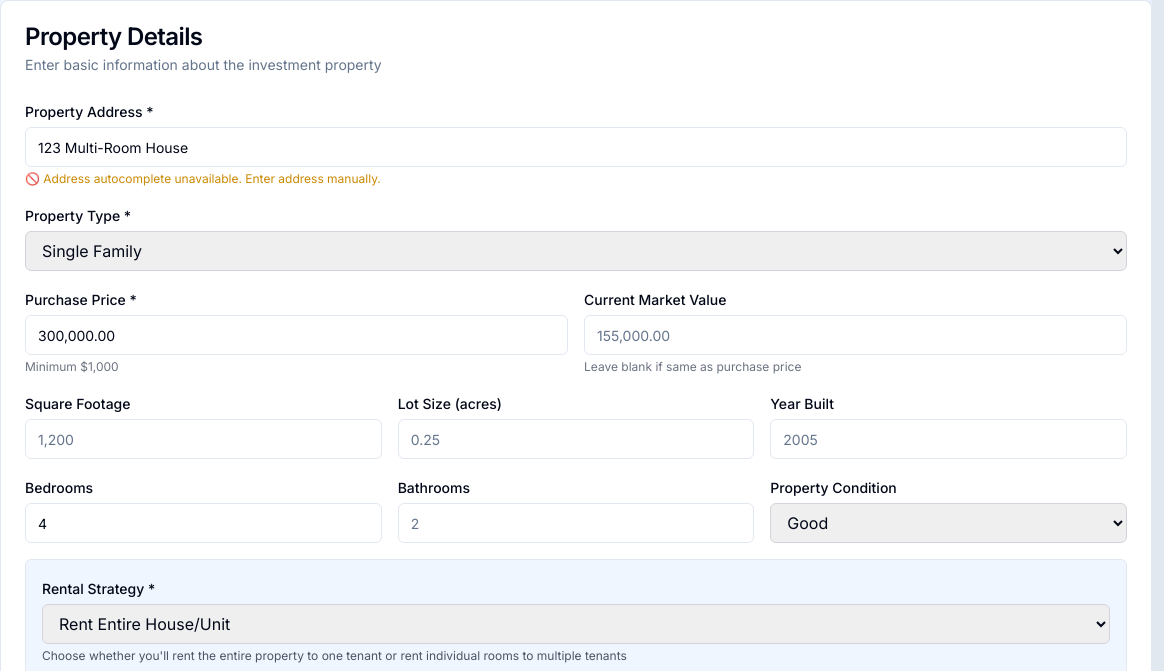
Multi-Room Rental Strategy Feature › should switch back to entire-house strategy and clear room data
Start with individual-rooms strategy
Select "Rent Individual Rooms" in the dropdown labelled "Rental Strategy *" at (576, 624), box [42,604,1110,644]
(page scrolled)
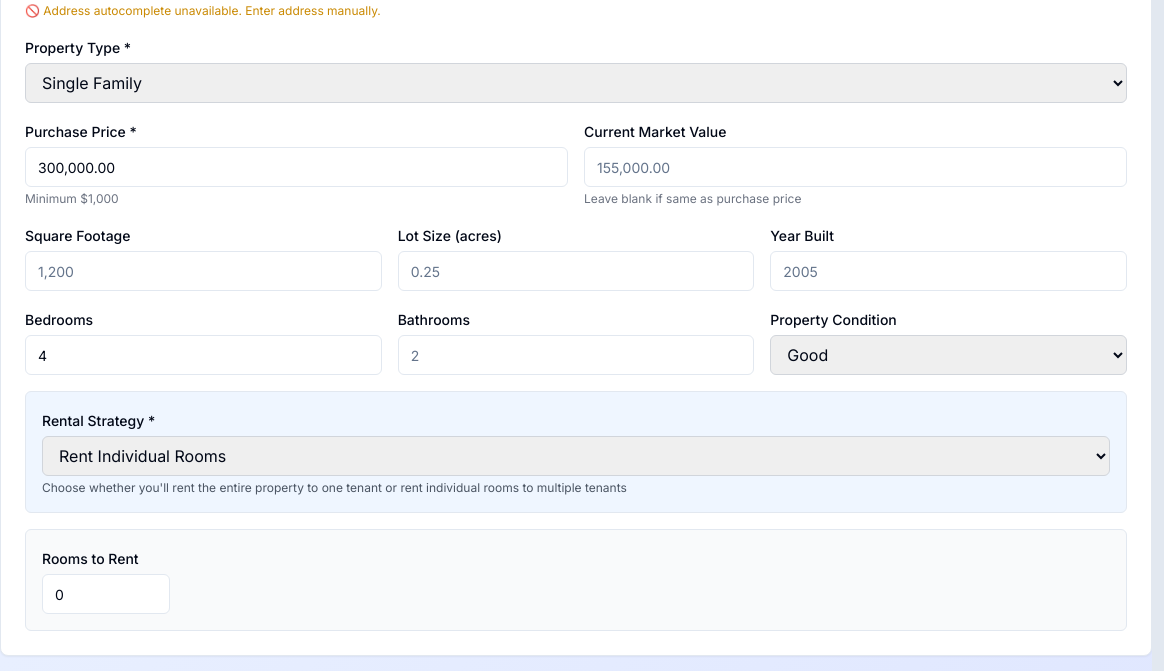
Configure some rooms
Replace the text in the number field labelled "Rooms to Rent" with "2" at (106, 594), box [42,574,170,614]
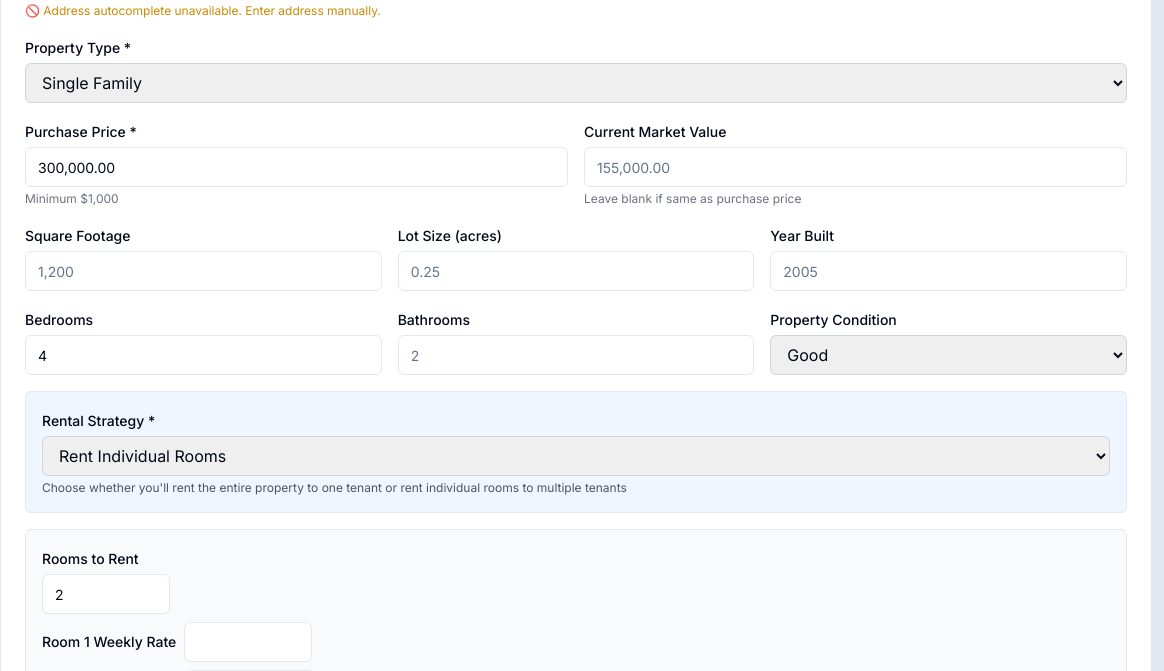
Type "150" into the field labelled "Room 1 Weekly Rate" at (248, 642), box [184,622,312,662]
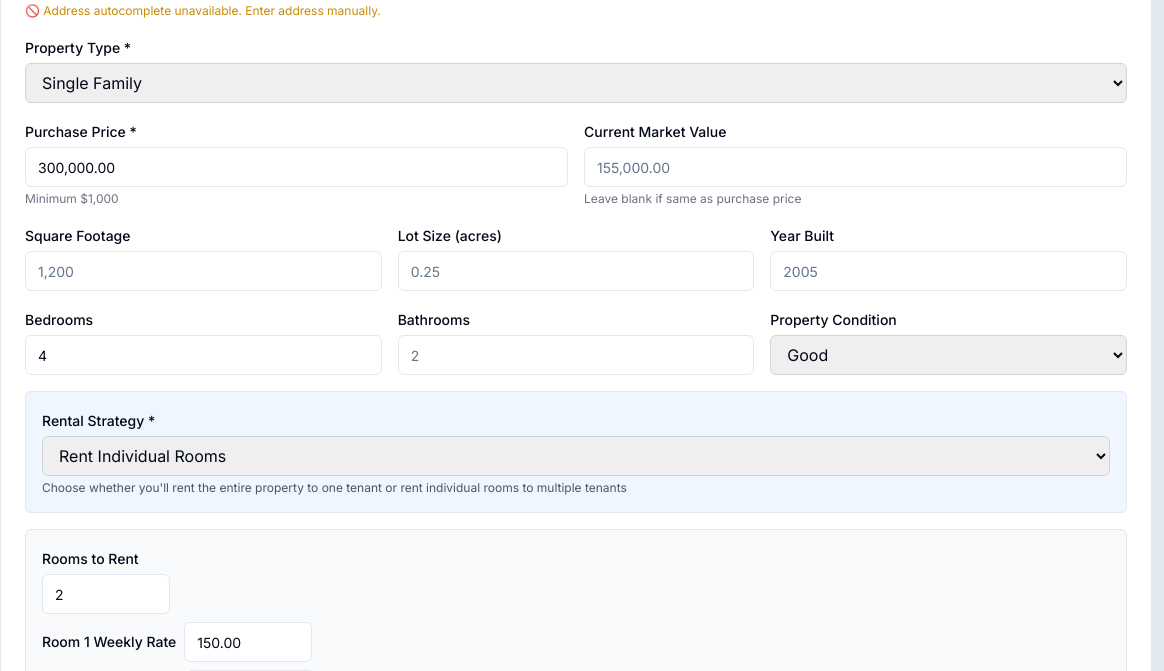
Switch back to entire-house
Select "Rent Entire House/Unit" in the dropdown labelled "Rental Strategy *" at (576, 456), box [42,436,1110,476]
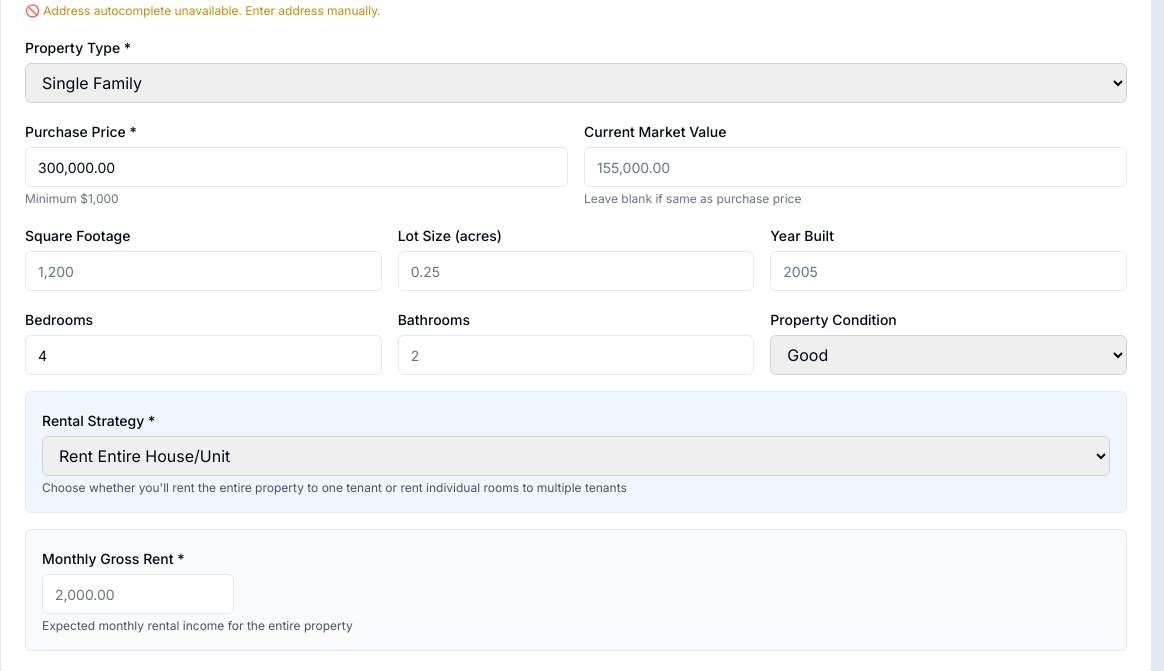
Now the label labelled "Rooms to Rent" is gone
Now the label labelled "Room 1 Weekly Rate" is gone
Now the field labelled "Monthly Gross Rent *" is shown, box [42,574,234,614]
